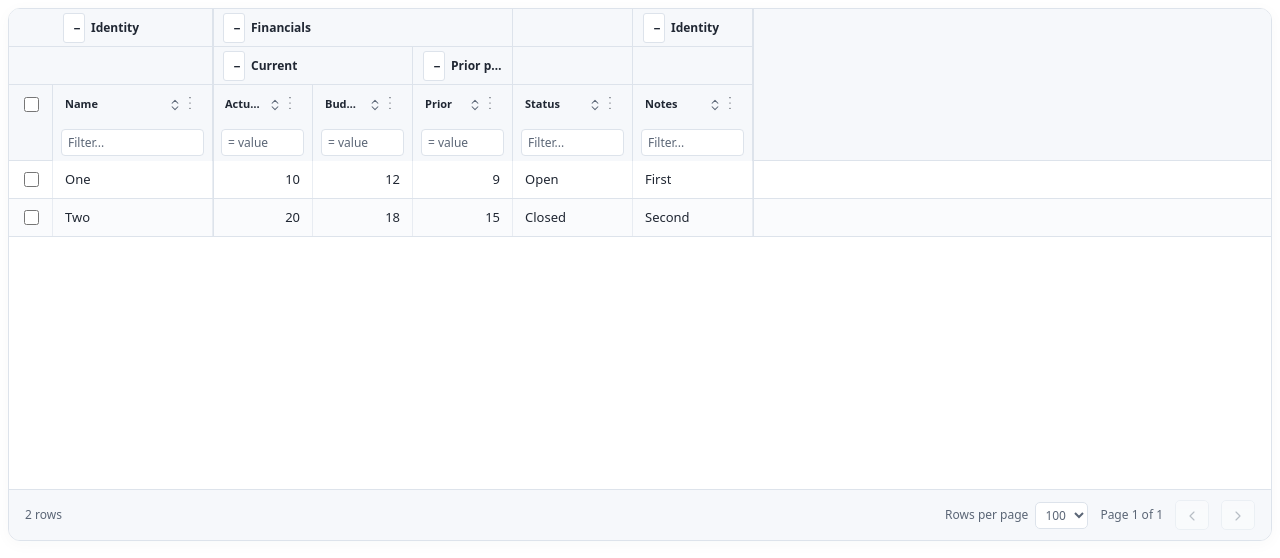
Test: DataGrid column-group integration › restores nested collapse policy when toggling a child under a collapsed ancestor
This screenshot has width=1280, height=558.
What coordinates should you click on to do the following:
click the button named "Collapse column group Financials / Current"
I would click on:
 (234, 66)
Its box is [223,50,245,80].
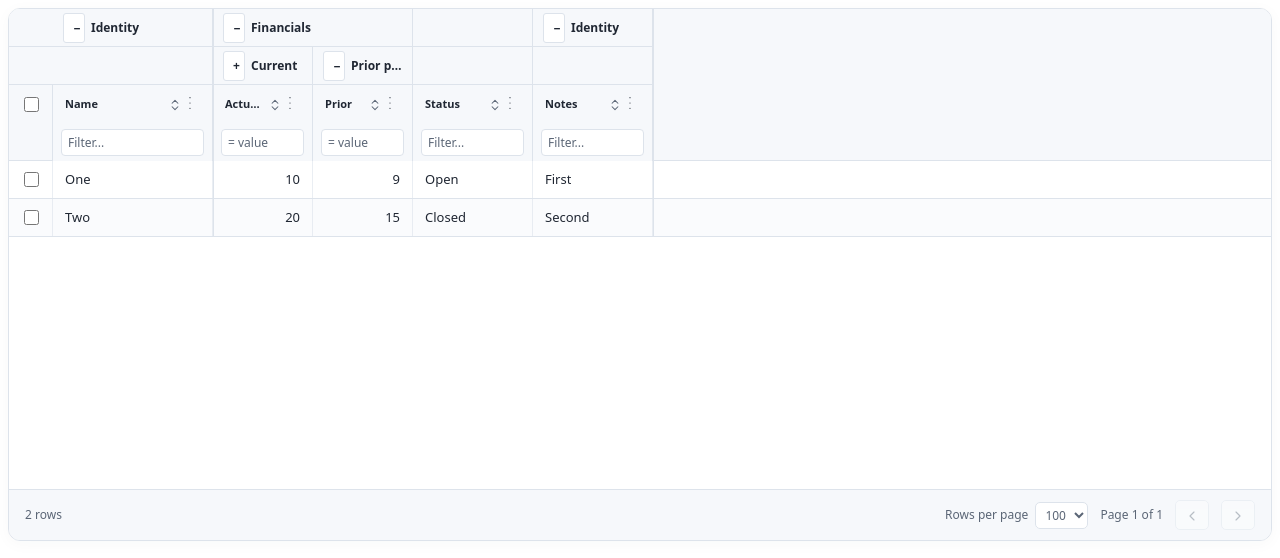
Expected: the button with aria-label "Sort Prior" is shown, [313,85,412,123]
What coordinates should you click on to do the following:
click the button named "Collapse column group Financials"
I would click on:
 (234, 28)
Its box is [223,12,245,42].
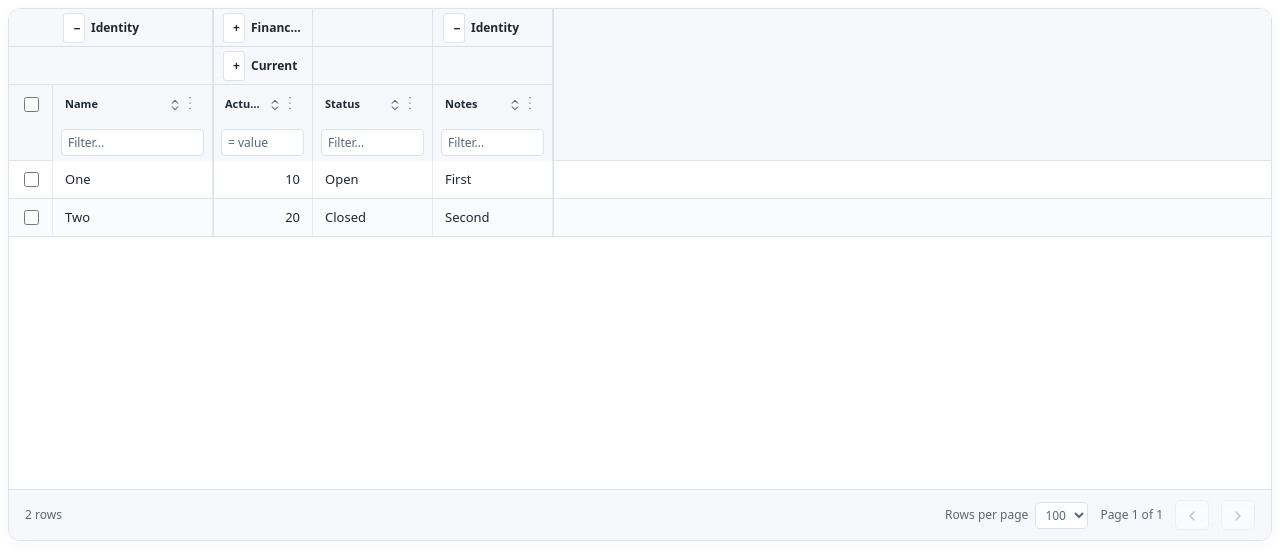
What coordinates should you click on to do the following:
click the button named "Expand column group Financials / Current"
I would click on:
 (234, 66)
Its box is [223,50,245,80].
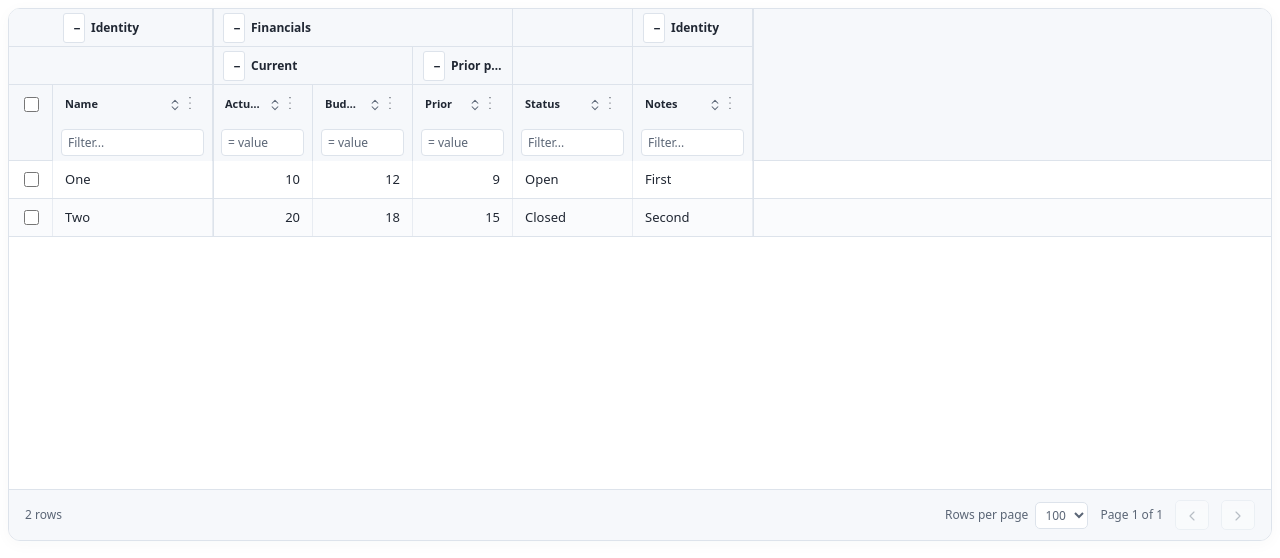
Now the button with aria-label "Sort Budget" is shown, box [313,85,412,123]
Now the button with aria-label "Sort Prior" is shown, box [413,85,512,123]
